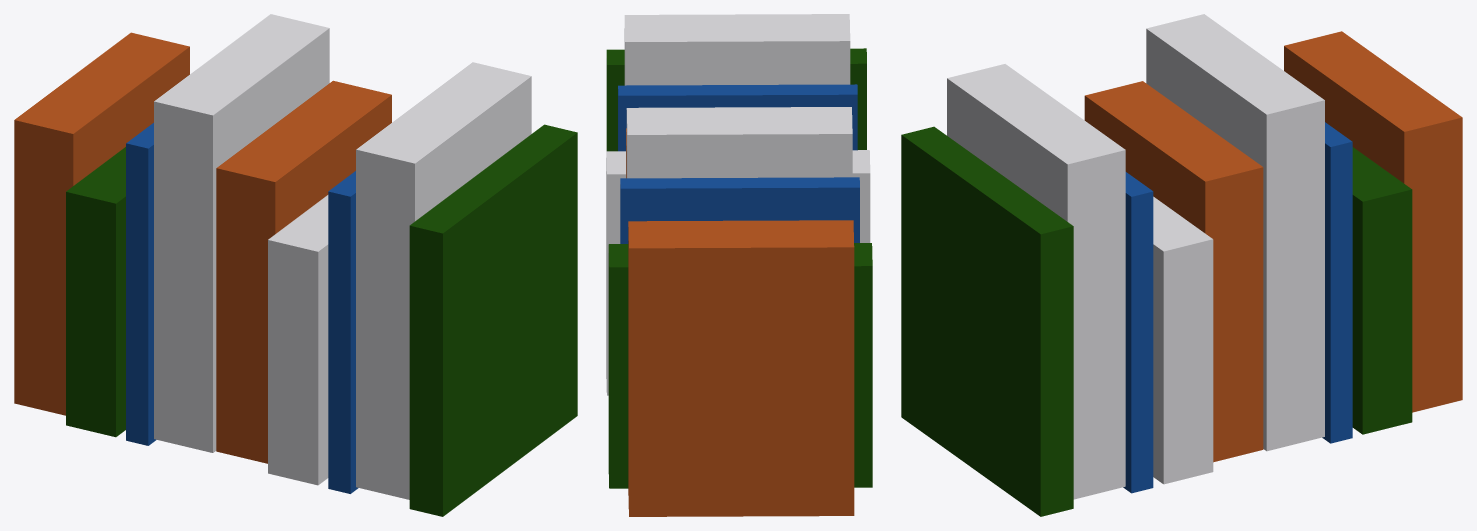
File: books-1.glb
3 views of the same model, side by side, from view 1: azimuth 30°, elevation 25°; view 2: azimuth 150°, elevation 25°; view 3: azimuth 270°, elevation 25° (orthographic). The views are drawn at different scales.
Parts seen in each view (by area): view 1: Cube.001; view 2: Cube.001; view 3: Cube.001.
Part boxes in pixels (x1=…): Cube.001: x1=14, y1=14, x2=577, y2=516; Cube.001: x1=606, y1=14, x2=872, y2=516; Cube.001: x1=901, y1=14, x2=1462, y2=516.
Size of the model in its own units: 0.8324 by 0.6603 by 0.9839.
